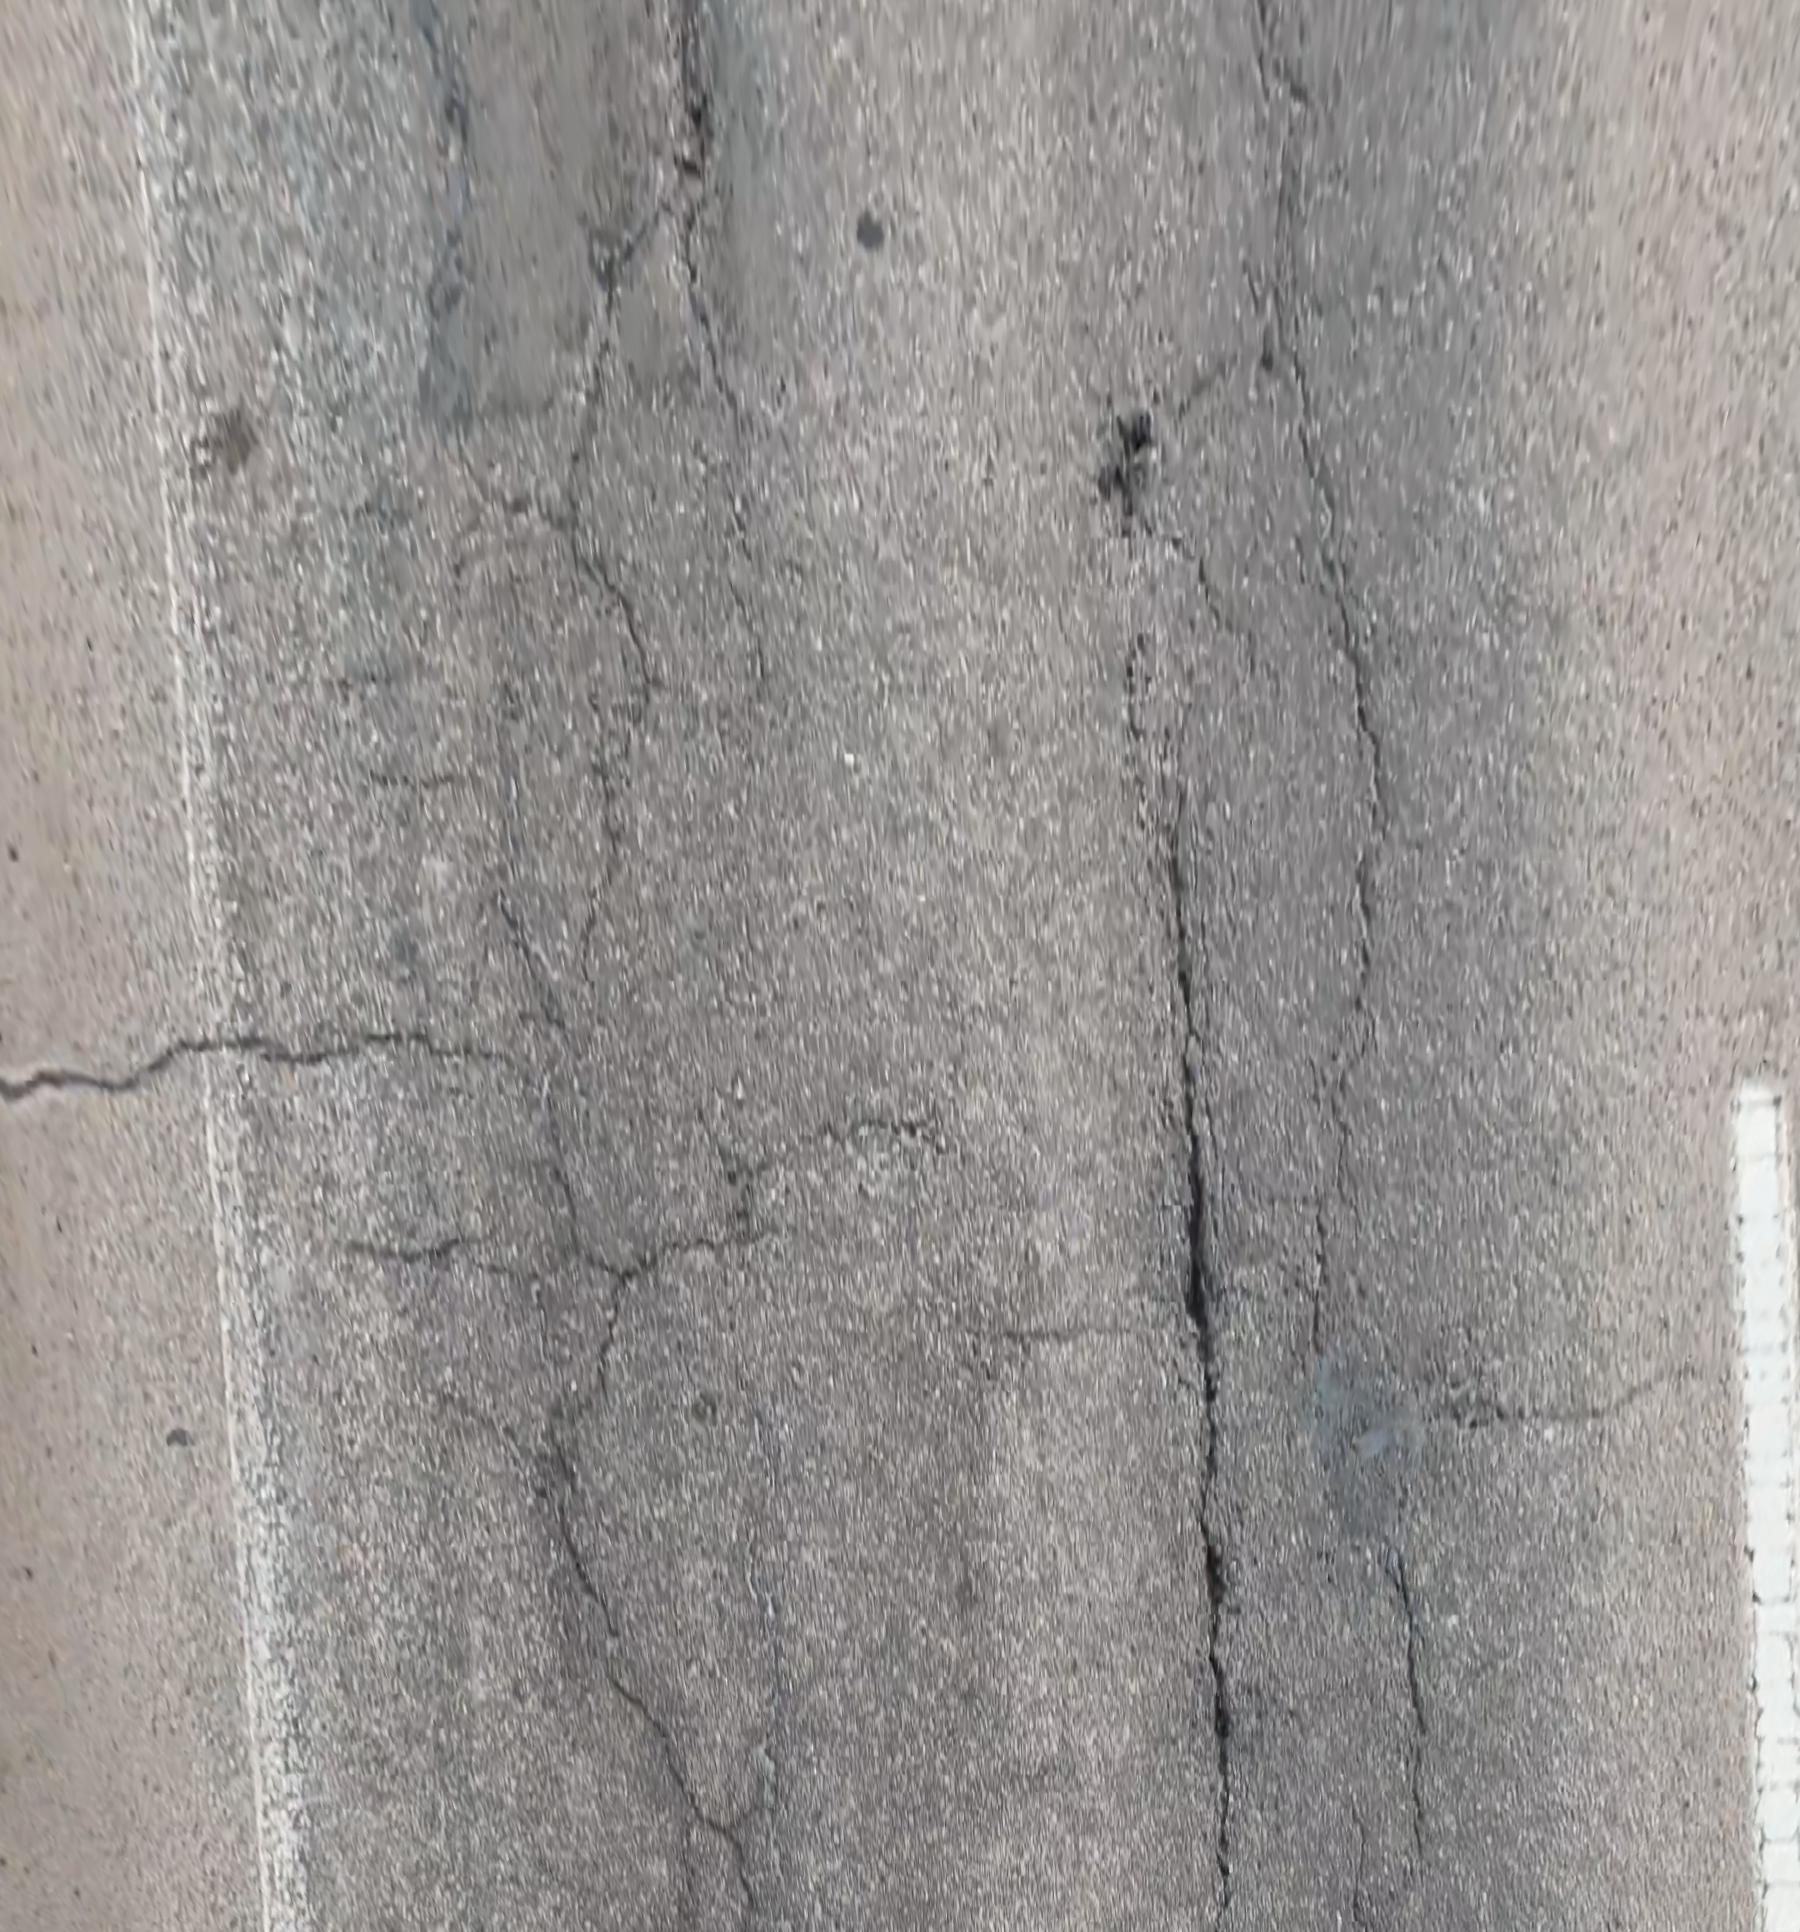pothole: (1096, 404, 1166, 535)
pothole_patch_good: (1303, 1347, 1430, 1556)
pothole_patch_poor: (416, 0, 777, 428)
